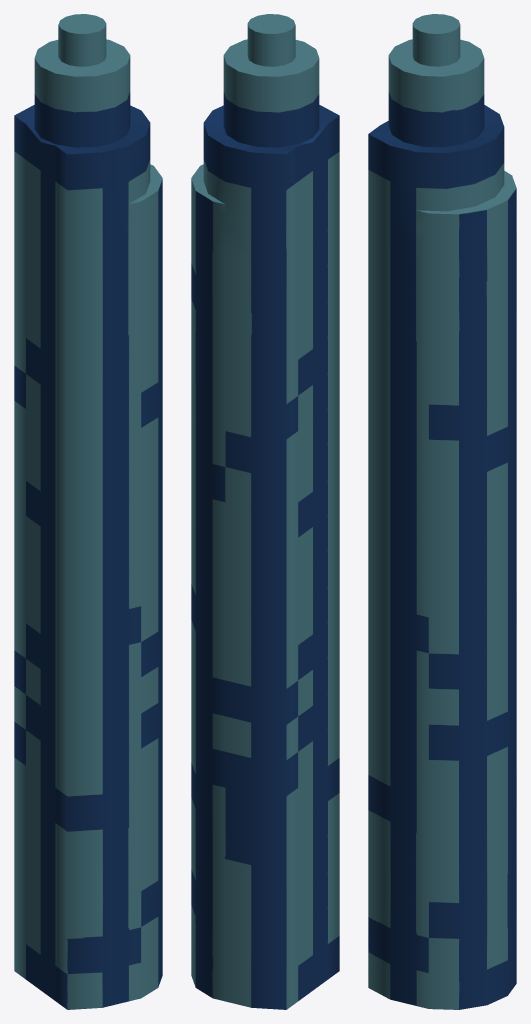
Rendered from building4.glb.
3 views of the same model, side by side, from view 1: azimuth 30°, elevation 25°; view 2: azimuth 150°, elevation 25°; view 3: azimuth 330°, elevation 25° (orthographic).
Visible parts, largest first — view 1: building4; view 2: building4; view 3: building4.
Part boxes in pixels (bbox=[...]): building4: bbox=[14, 14, 162, 1009]; building4: bbox=[191, 14, 339, 1009]; building4: bbox=[368, 14, 516, 1009].
Bounding box in the file's own units: 0.0881 × 0.7124 × 0.0897.
Materials: 1 (1 with a texture image).
